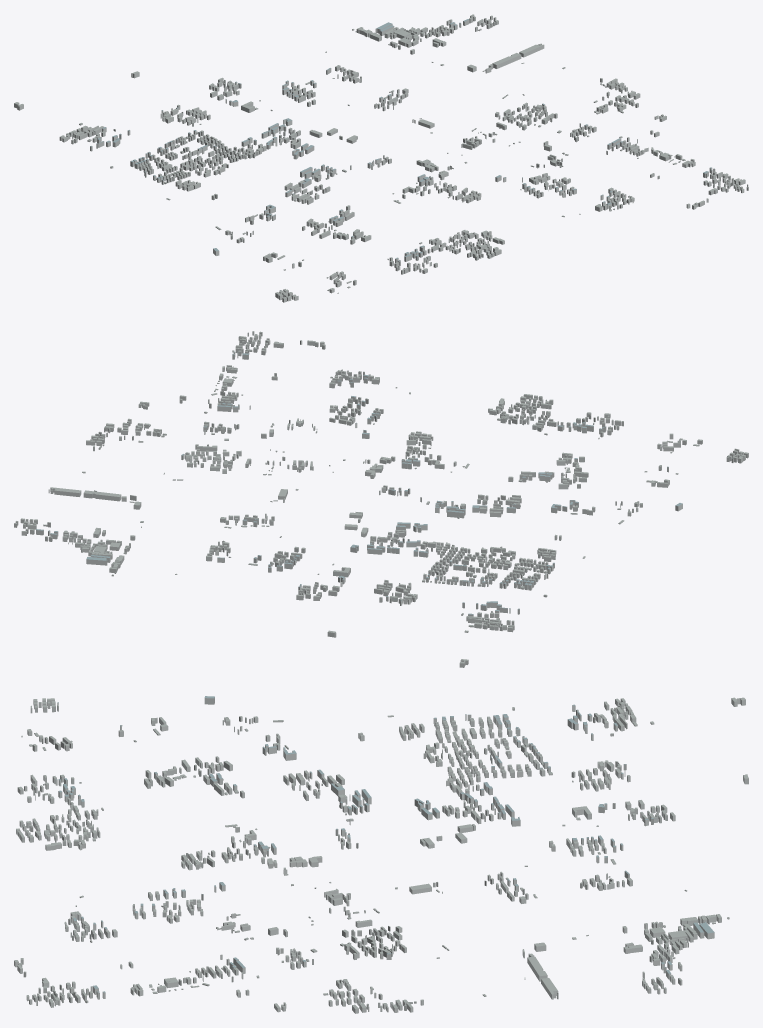
The model's file is far.glb.
The picture shows the model from 3 angles, top to bottom: view 1: azimuth 30°, elevation 25°; view 2: azimuth 150°, elevation 25°; view 3: azimuth 270°, elevation 25°; orthographic projection. The views are drawn at different scales.
Size of the model in its own units: 2107 by 21.7 by 2101.
